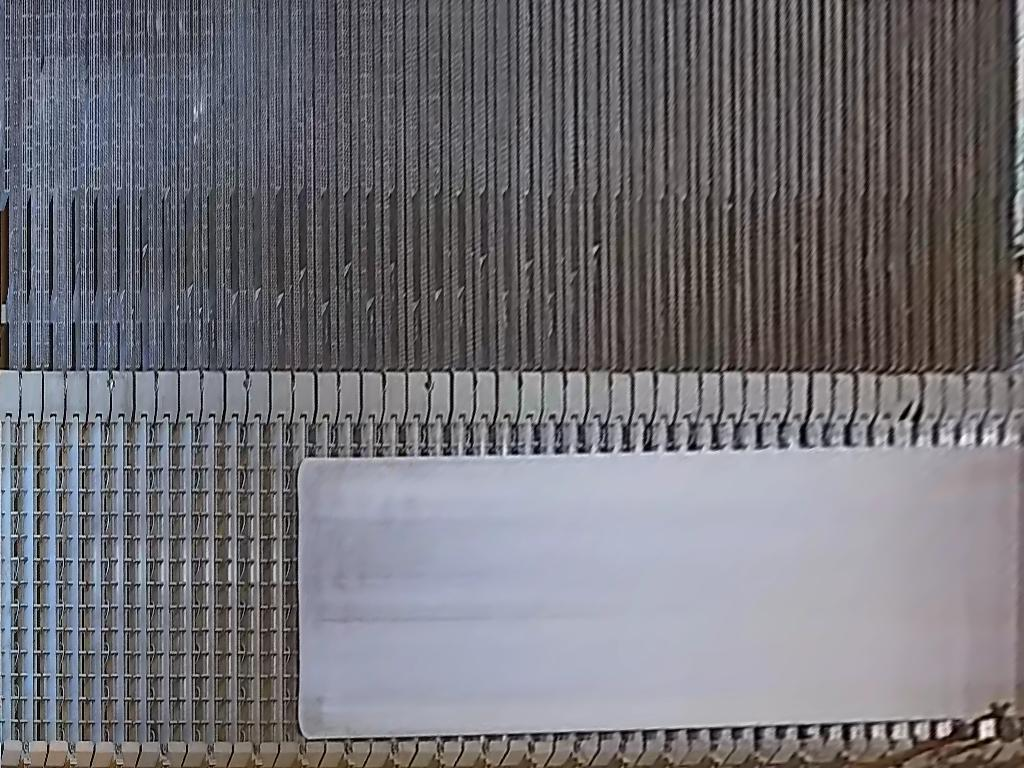steel: (297, 447, 1024, 739)
